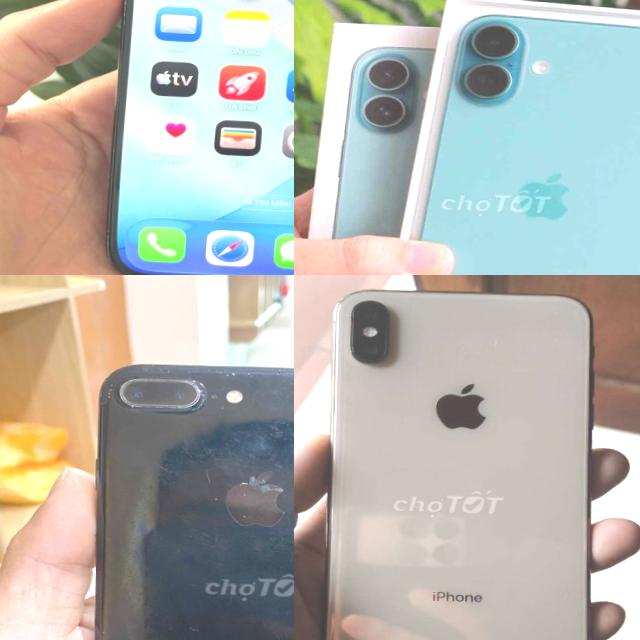gen_15: (57, 0, 294, 275)
gen_16: (395, 0, 640, 275)
gen_7_8: (68, 352, 294, 640)
gen_x_xs: (325, 290, 593, 640)
scratch: (89, 359, 294, 419), (148, 452, 228, 506), (232, 467, 292, 521)
